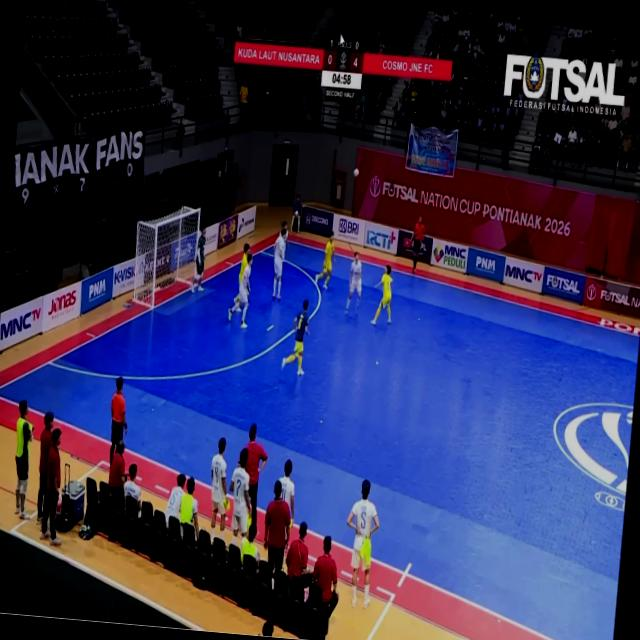keeper: (282, 300, 309, 375), (191, 230, 205, 293)
official: (313, 537, 338, 636), (246, 424, 268, 525), (37, 412, 54, 524)
players: (348, 480, 379, 608), (230, 448, 251, 543), (229, 254, 252, 328), (211, 437, 227, 532), (371, 265, 392, 324), (272, 224, 287, 301), (316, 231, 334, 290), (279, 460, 295, 526), (345, 252, 362, 312), (239, 244, 250, 283)
referee: (110, 377, 127, 465), (411, 217, 425, 272)
